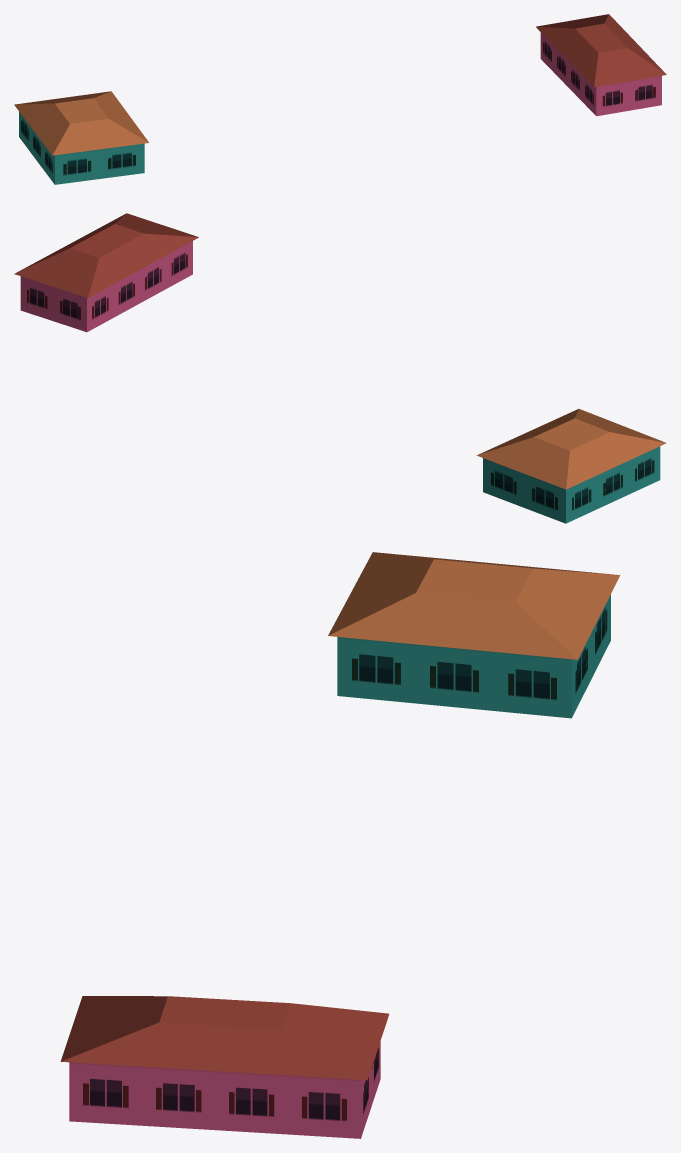
File: msb_oranjestad_m12_4.glb
3 views of the same model, one above another, from view 1: azimuth 30°, elevation 25°; view 2: azimuth 150°, elevation 25°; view 3: azimuth 270°, elevation 25° (orthographic). The views are drawn at different scales.
Visible parts, largest first — view 1: msb_oranjestad_m12_4_lod0; view 2: msb_oranjestad_m12_4_lod0; view 3: msb_oranjestad_m12_4_lod0.
Part boxes in pixels (x1,y1,x2,y2): msb_oranjestad_m12_4_lod0: (14,14,666,184); msb_oranjestad_m12_4_lod0: (14,213,666,523); msb_oranjestad_m12_4_lod0: (60,552,620,1138).
Size of what is drawn, in the model's own units: 65.13 by 5.69 by 28.43.
Materials: 2 (1 with a texture image).
